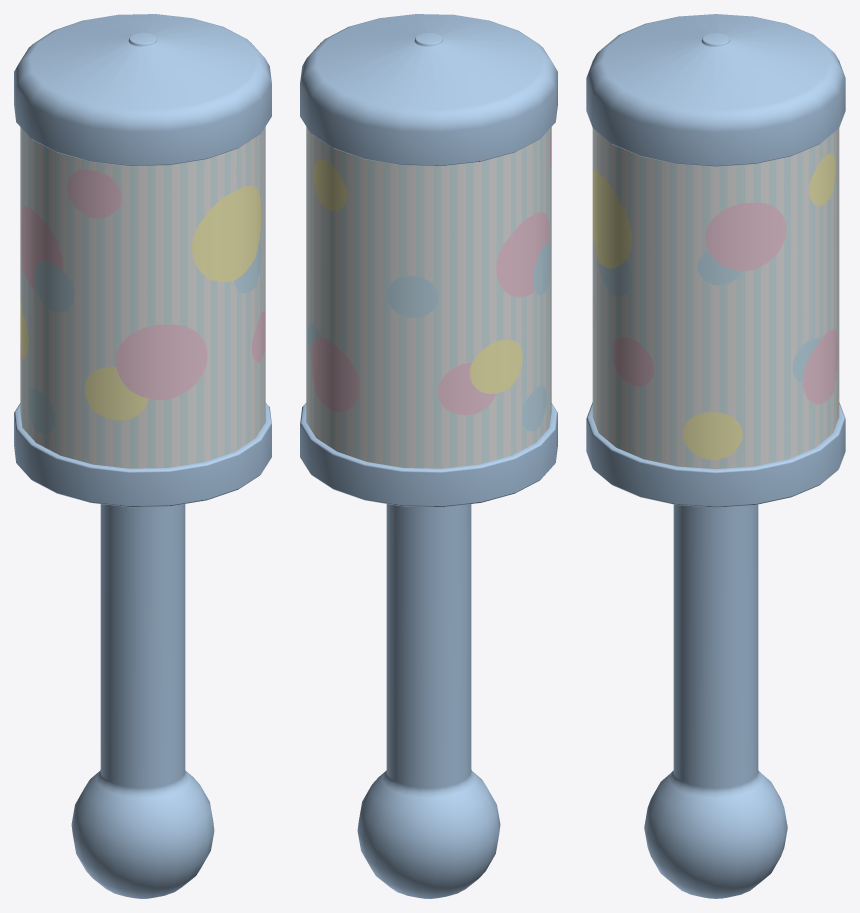
File: rattle_blue.fbx
The picture shows the model from 3 angles, left to right: view 1: azimuth 30°, elevation 25°; view 2: azimuth 150°, elevation 25°; view 3: azimuth 270°, elevation 25°; orthographic projection.
Visible parts, largest first — view 1: Rattle_Blue; view 2: Rattle_Blue; view 3: Rattle_Blue.
Part boxes in pixels (<box>): Rattle_Blue: <box>14,14,271,898</box>; Rattle_Blue: <box>300,14,557,898</box>; Rattle_Blue: <box>586,14,845,898</box>.
Bounding box in the file's own units: 5.52 × 20.06 × 5.52.
Materials: 1 (1 with a texture image).
